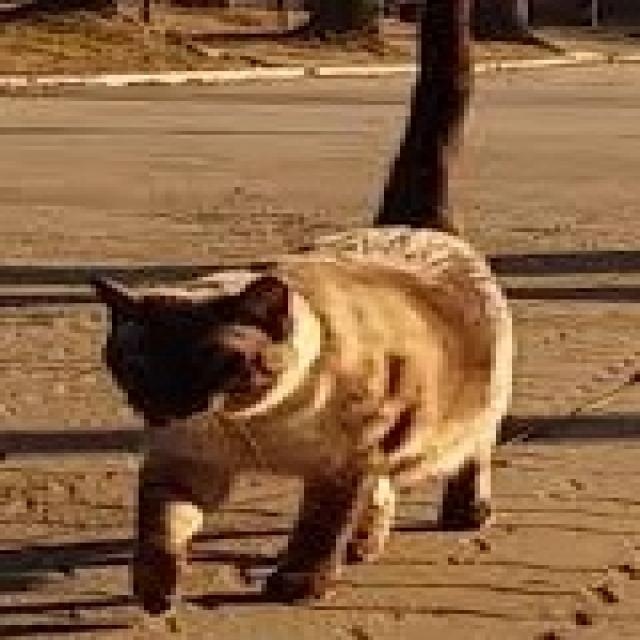cat: (74, 0, 522, 621)
